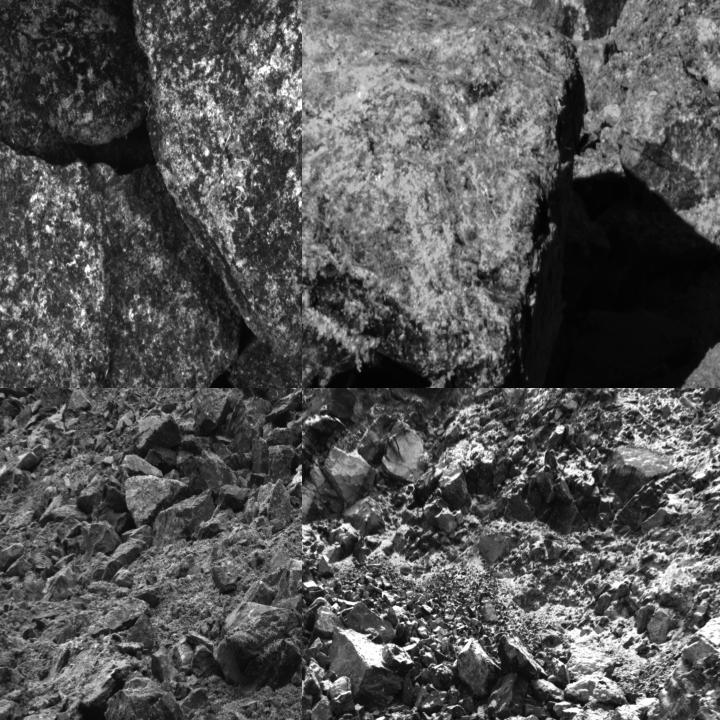stone: (302, 0, 578, 387), (124, 0, 301, 352), (0, 135, 238, 387), (0, 0, 148, 157), (613, 45, 719, 214), (229, 198, 301, 387), (216, 603, 301, 687), (329, 628, 401, 711), (152, 490, 224, 548), (238, 640, 300, 700), (124, 475, 189, 527), (456, 638, 500, 698), (498, 630, 548, 679), (131, 409, 181, 455), (342, 601, 396, 641), (566, 672, 629, 706), (488, 672, 530, 719), (273, 559, 301, 625), (192, 388, 229, 434), (82, 520, 121, 560), (268, 478, 294, 531), (264, 443, 294, 485), (119, 454, 164, 482), (150, 644, 180, 683), (380, 643, 415, 676), (189, 644, 222, 678), (312, 606, 344, 641), (148, 691, 187, 719), (328, 675, 356, 712), (217, 483, 248, 513), (56, 514, 82, 544), (0, 542, 25, 572), (211, 566, 237, 592), (196, 519, 226, 540), (311, 693, 334, 719), (605, 704, 643, 719), (67, 388, 91, 411), (287, 412, 301, 444), (115, 569, 132, 588)
